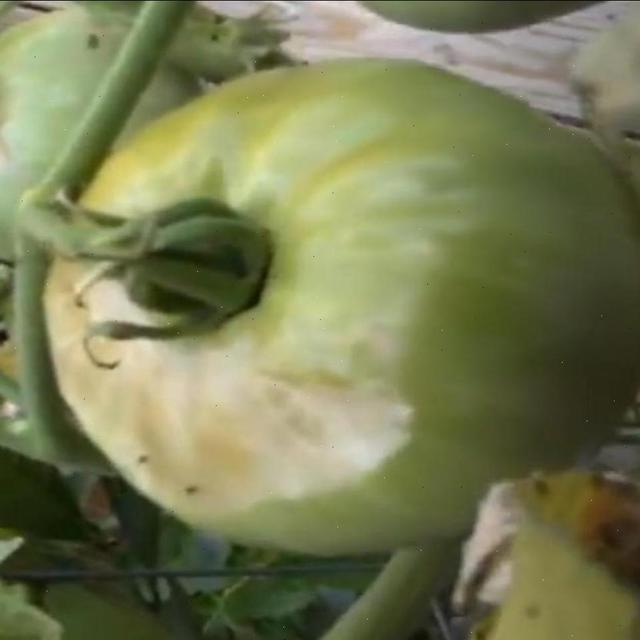Sunscald Fruit: (31, 170, 290, 358)
